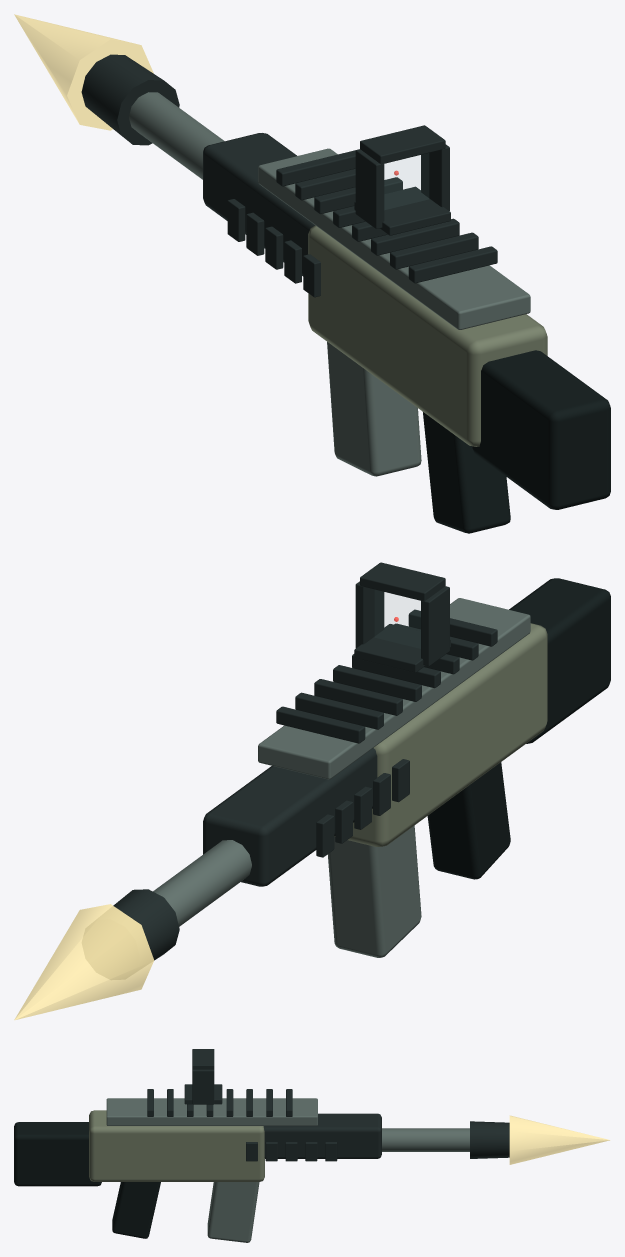
The model's file is equipment-0.glb.
3 views of the same model, one above another, from view 1: azimuth 30°, elevation 25°; view 2: azimuth 150°, elevation 25°; view 3: azimuth 270°, elevation 25° (orthographic). The views are drawn at different scales.
Bounding box in the file's own units: 0.132 × 0.4526 × 1.36.
